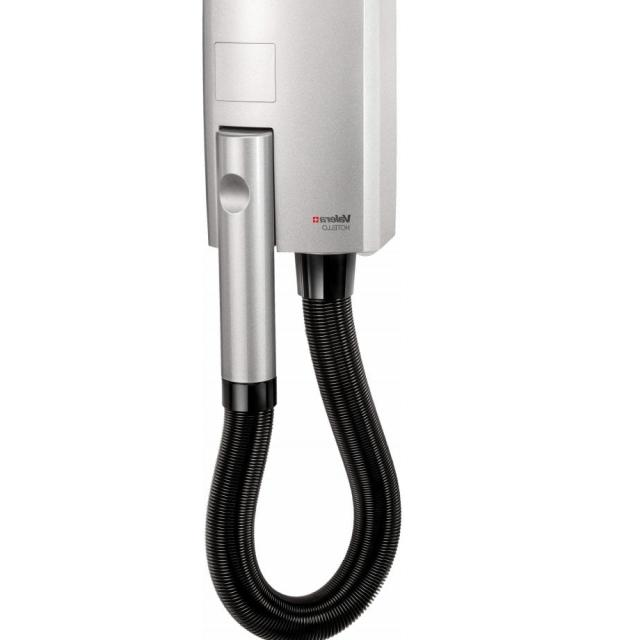dryer: (163, 0, 420, 640)
